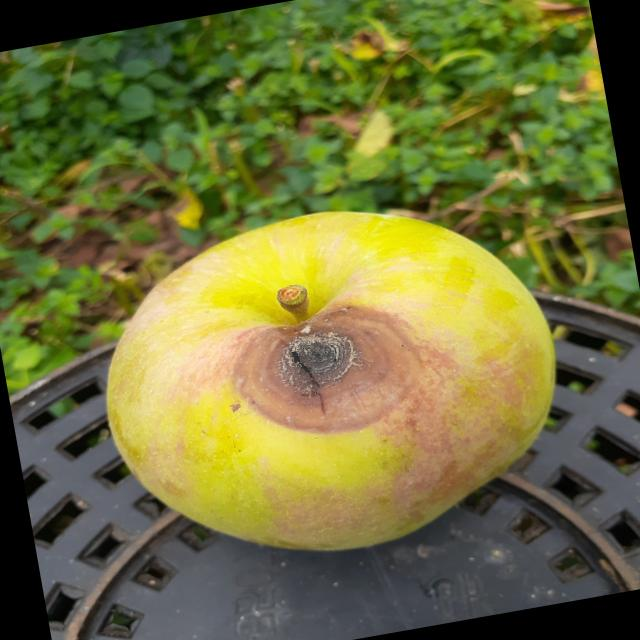rotten: (63, 171, 601, 605)
